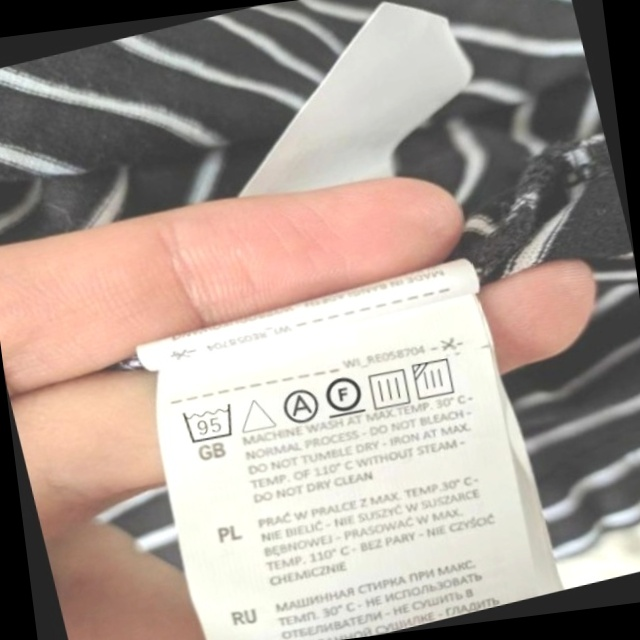95C: (177, 396, 242, 449)
bleach: (234, 389, 279, 439)
drip_dry: (363, 362, 416, 414)
drip_dry_in_shade: (408, 352, 464, 406)
dry_clean: (276, 383, 323, 429)
dry_clean_petrol_only: (319, 367, 369, 422)
